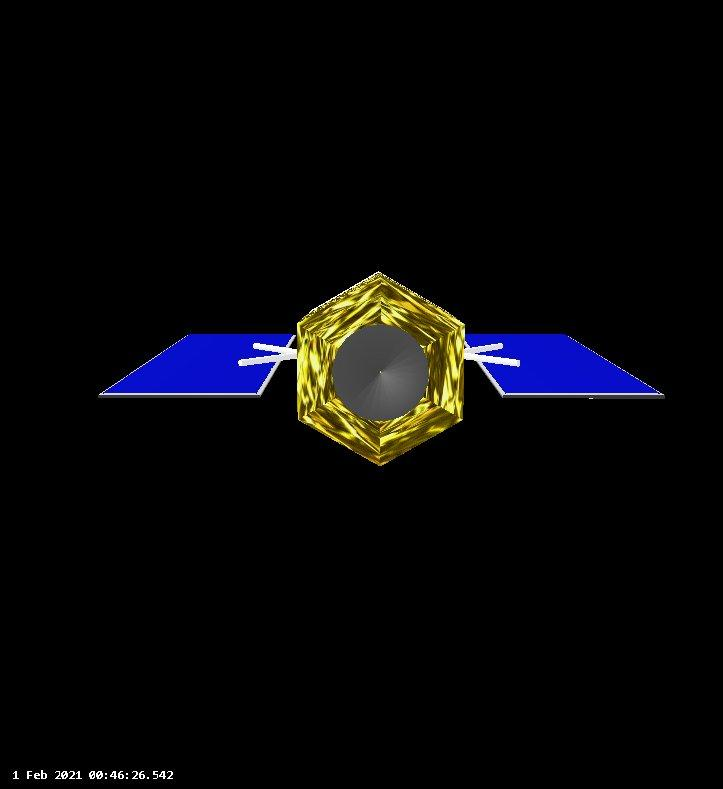body: (293, 269, 467, 468)
solar: (460, 329, 664, 401), (98, 331, 296, 402)
